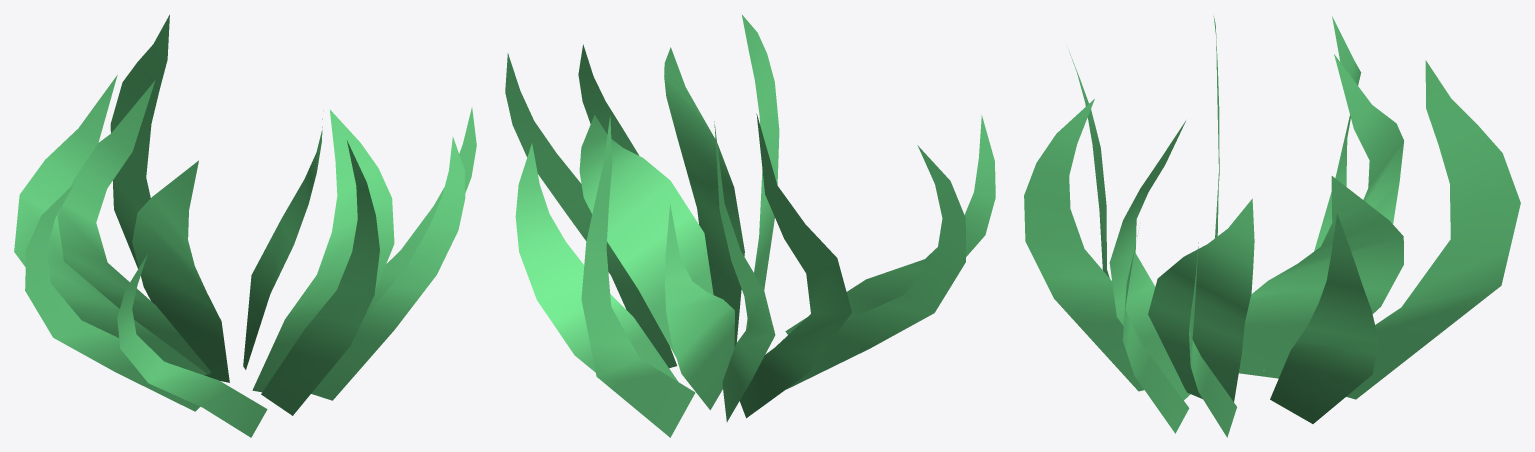
Rendered from Grass00.fbx.
3 views of the same model, side by side, from view 1: azimuth 30°, elevation 25°; view 2: azimuth 150°, elevation 25°; view 3: azimuth 270°, elevation 25° (orthographic). The views are drawn at different scales.
Visible parts, largest first — view 1: Grass00_LOD0; view 2: Grass00_LOD0; view 3: Grass00_LOD0.
Part boxes in pixels (x1,y1,x2,y2): Grass00_LOD0: [14, 14, 476, 437]; Grass00_LOD0: [505, 15, 995, 437]; Grass00_LOD0: [1024, 16, 1520, 437].
Size of what is drawn, in the model's own units: 114 by 78.95 by 101.
1 material, 1 textured.
